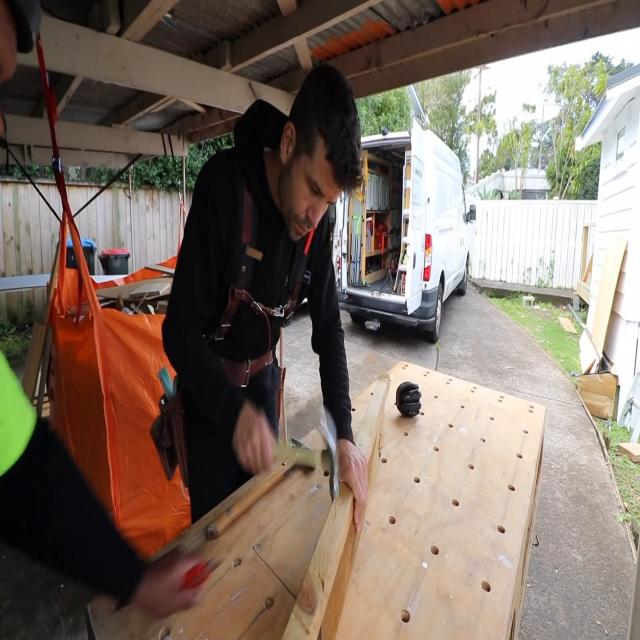hammer: (205, 440, 321, 537), (268, 422, 339, 497)
